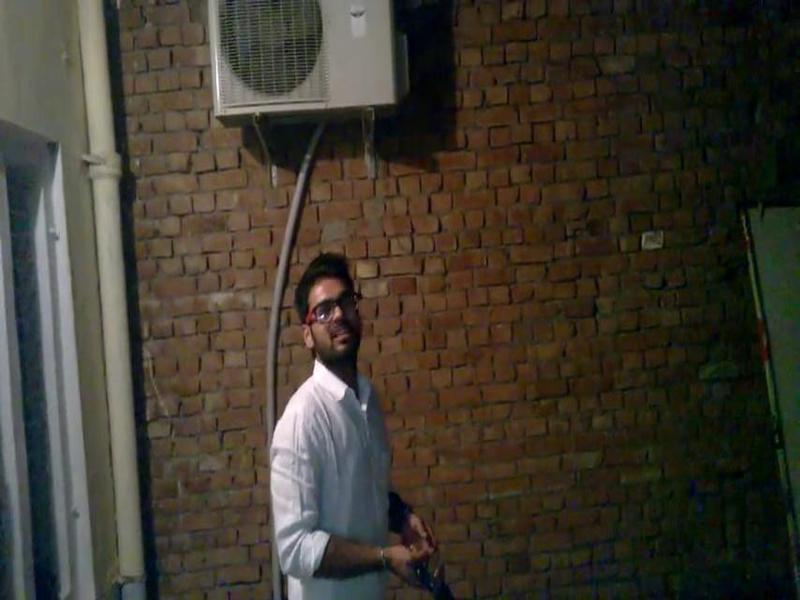Revolver: (388, 518, 469, 600)
